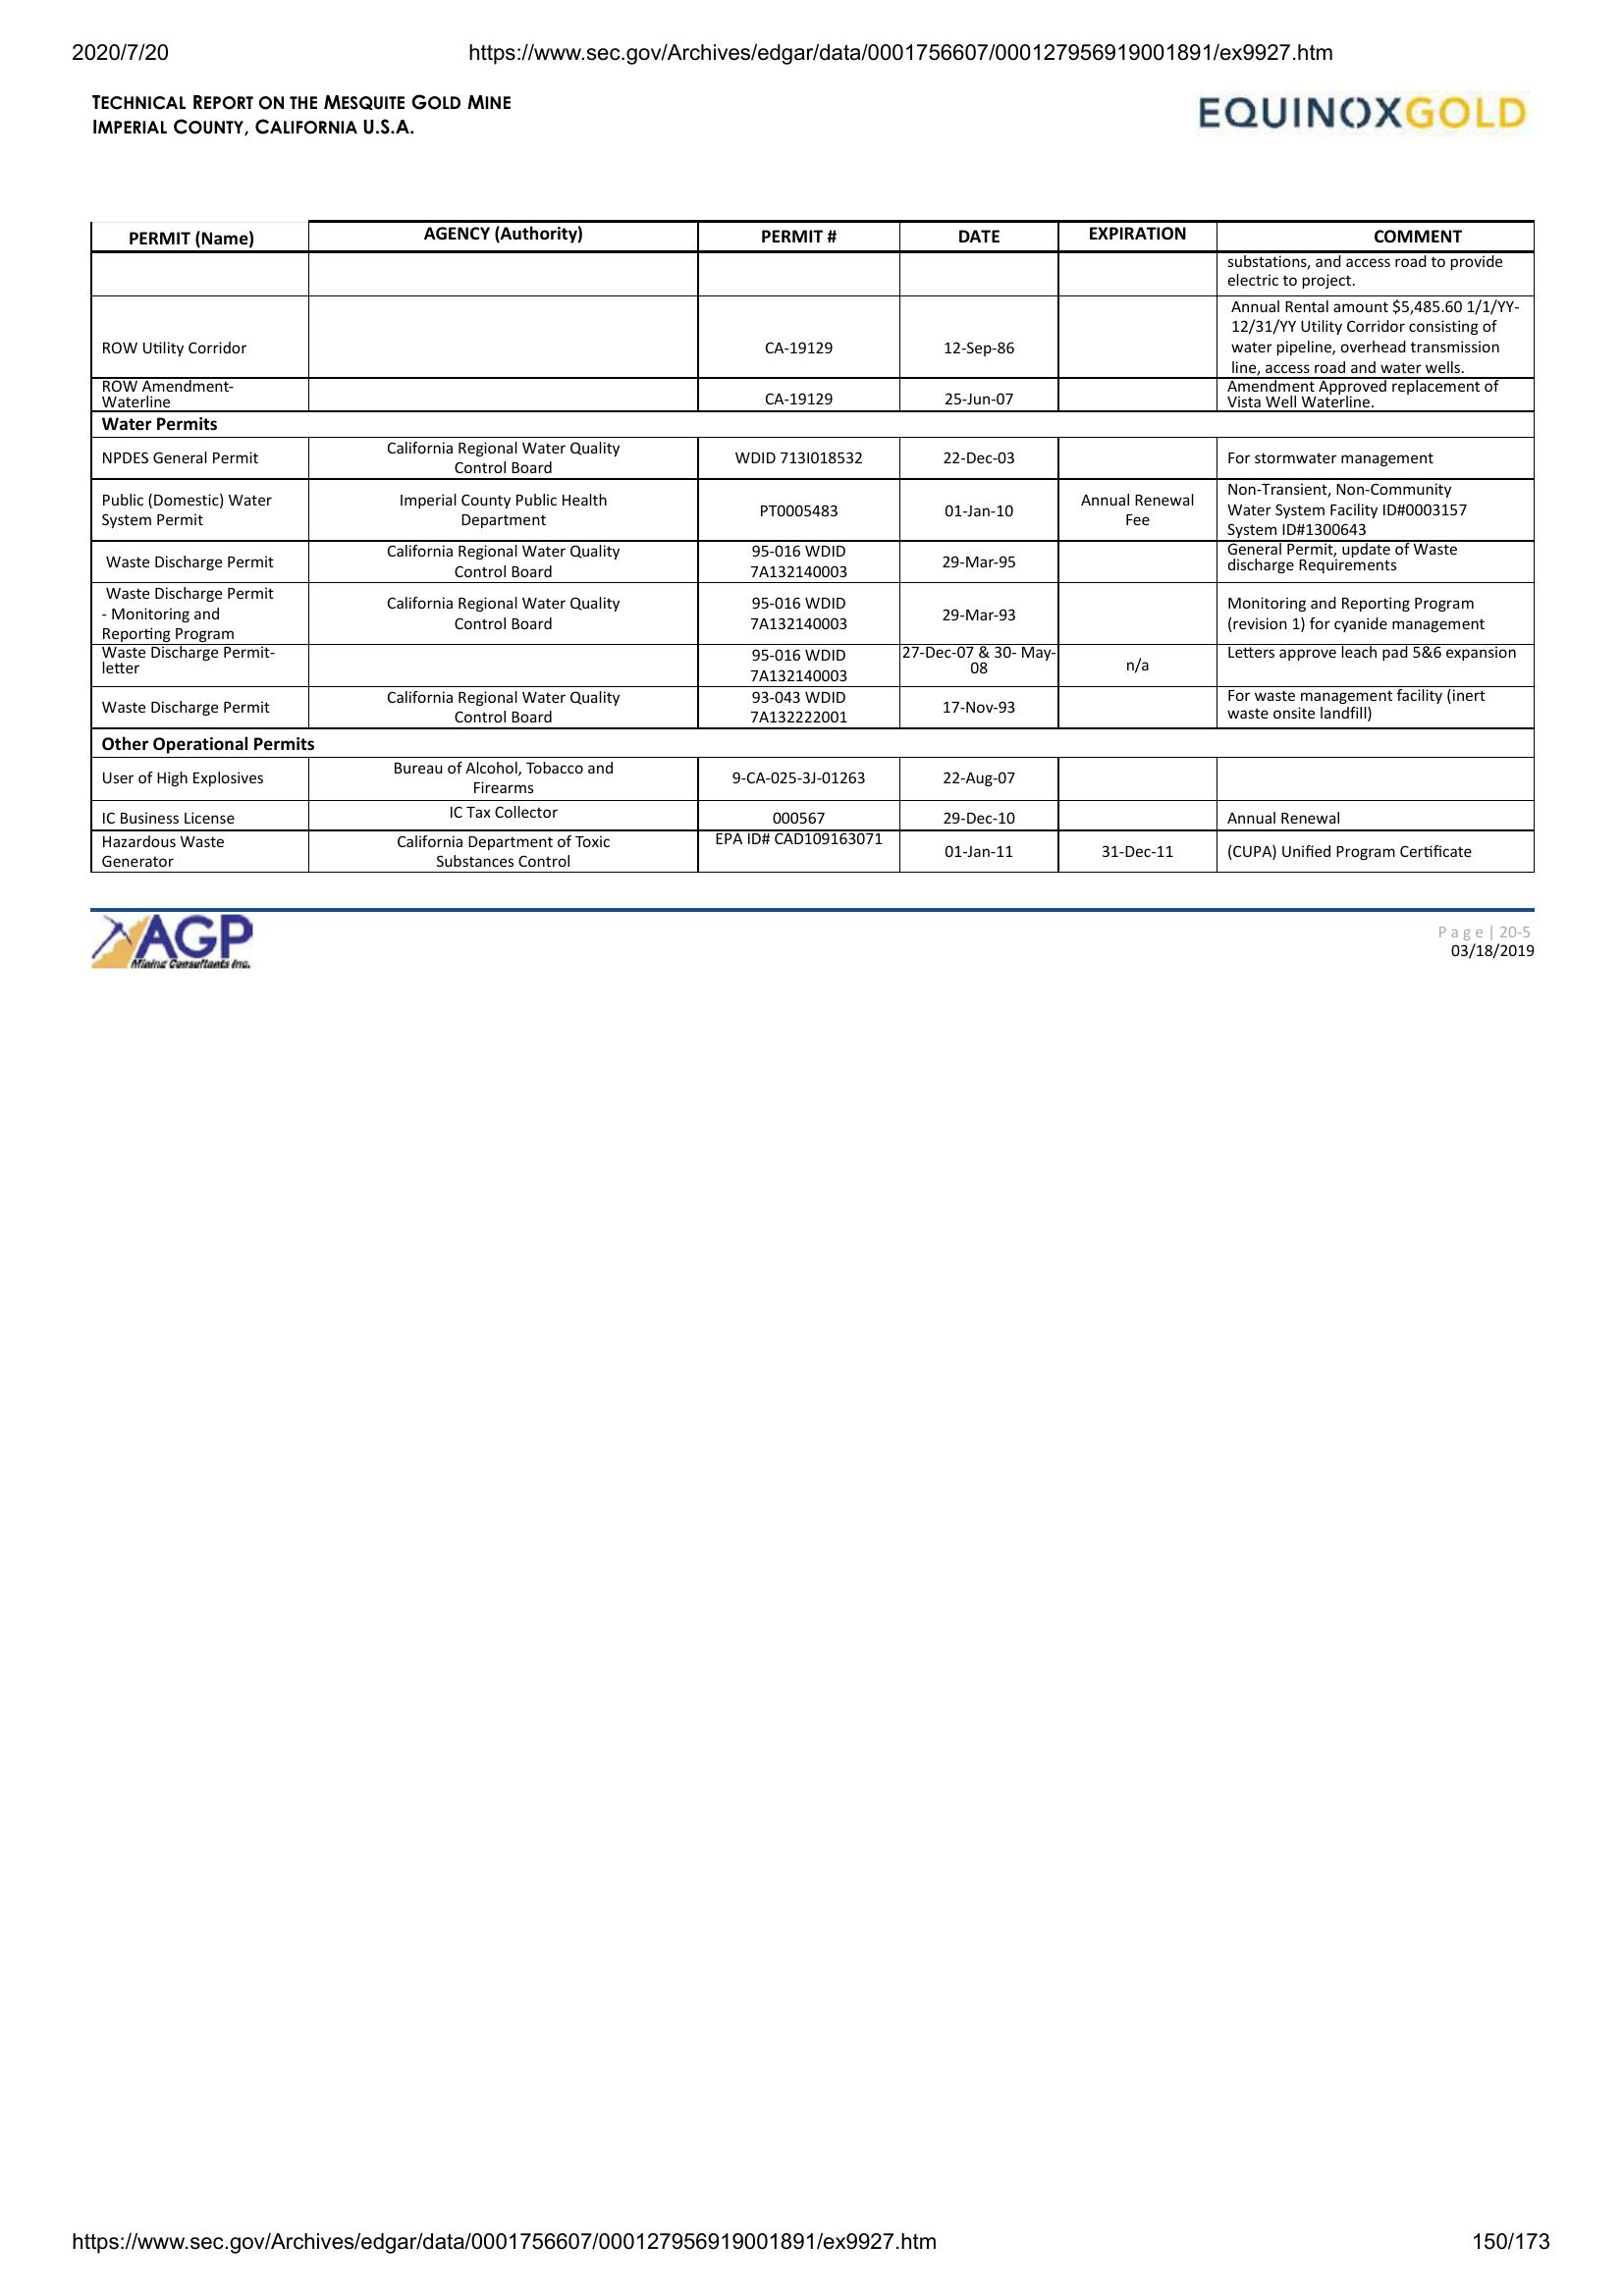table: (84, 214, 1544, 881)
